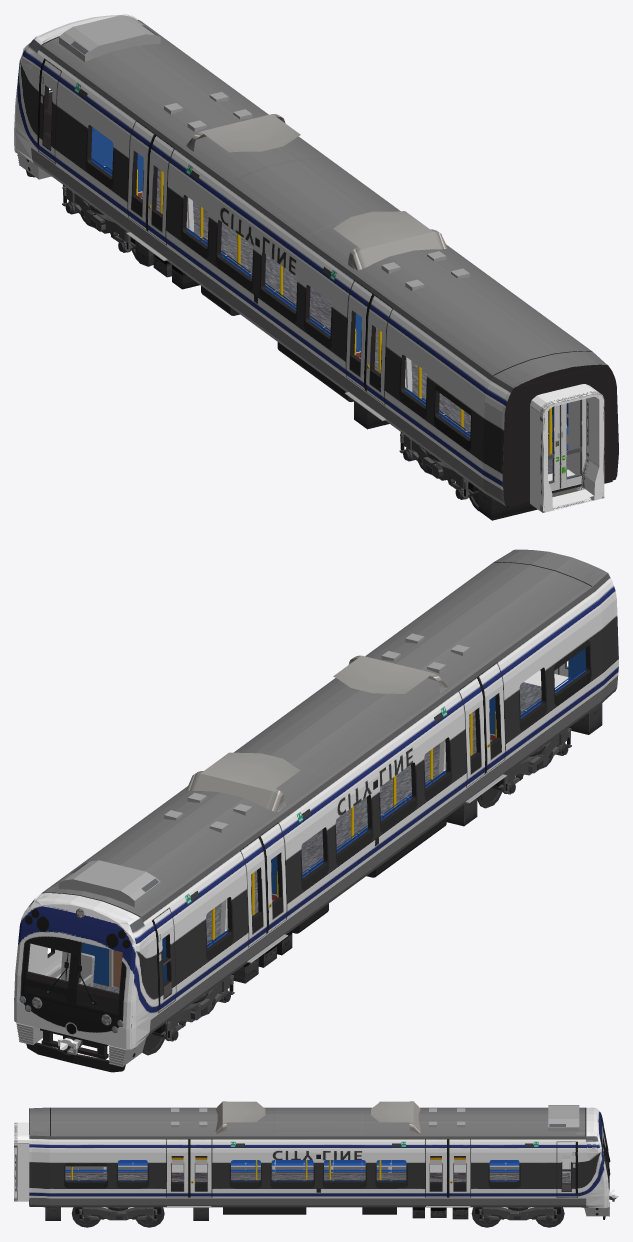
File: module_city_back.obj
The picture shows the model from 3 angles, top to bottom: view 1: azimuth 30°, elevation 25°; view 2: azimuth 150°, elevation 25°; view 3: azimuth 270°, elevation 25°; orthographic projection. The views are drawn at different scales.
Visible parts, largest first — view 1: side, jibung, aircon, mak, backout, floor, door_LB_rear, door_LF_rear, habu, dt71, interiors, bong (+4 smaller); view 2: side, jibung, front, aircon, floor, dt71, door_LB_rear, door_LF_rear, habu, driverwall, wiper, coupler (+5 smaller); view 3: side, jibung, aircon, oscarchair, dt71, floor, door_RF_rear, door_RB_rear, habu, mak, heater, front (+5 smaller).
Part boxes in pixels (left/top/right/bottom): side: left=14, top=15, right=618, bottom=506; jibung: left=34, top=14, right=607, bottom=388; aircon: left=59, top=15, right=469, bottom=291; mak: left=530, top=384, right=604, bottom=512; backout: left=506, top=364, right=614, bottom=505; floor: left=156, top=169, right=568, bottom=474; door_LB_rear: left=146, top=150, right=386, bottom=417; door_LF_rear: left=128, top=136, right=367, bottom=404; habu: left=135, top=240, right=612, bottom=520; dt71: left=62, top=185, right=478, bottom=510; interiors: left=47, top=92, right=586, bottom=490; bong: left=136, top=169, right=551, bottom=454; side: left=14, top=551, right=618, bottom=1048; jibung: left=28, top=549, right=607, bottom=932; front: left=14, top=904, right=136, bottom=1049; aircon: left=59, top=633, right=469, bottom=906; floor: left=93, top=682, right=541, bottom=993; dt71: left=142, top=726, right=571, bottom=1055; door_LB_rear: left=265, top=679, right=504, bottom=946; door_LF_rear: left=246, top=693, right=486, bottom=960; habu: left=129, top=703, right=602, bottom=1049; driverwall: left=81, top=937, right=167, bottom=987; wiper: left=25, top=952, right=125, bottom=1072; coupler: left=40, top=1028, right=108, bottom=1059; side: left=29, top=1107, right=607, bottom=1208; jibung: left=29, top=1107, right=600, bottom=1140; aircon: left=171, top=1101, right=579, bottom=1134; oscarchair: left=65, top=1160, right=519, bottom=1181; dt71: left=71, top=1207, right=564, bottom=1227; floor: left=65, top=1172, right=570, bottom=1183; door_RF_rear: left=189, top=1149, right=470, bottom=1205; door_RB_rear: left=167, top=1149, right=448, bottom=1205; habu: left=29, top=1200, right=587, bottom=1220; mak: left=14, top=1122, right=29, bottom=1201; heater: left=65, top=1163, right=519, bottom=1174; front: left=597, top=1111, right=609, bottom=1207.
Bounding box in the file's own units: 2.88 × 3.97 × 20.41.
37 materials, 36 textured.
